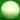white: (0, 0, 20, 20)
